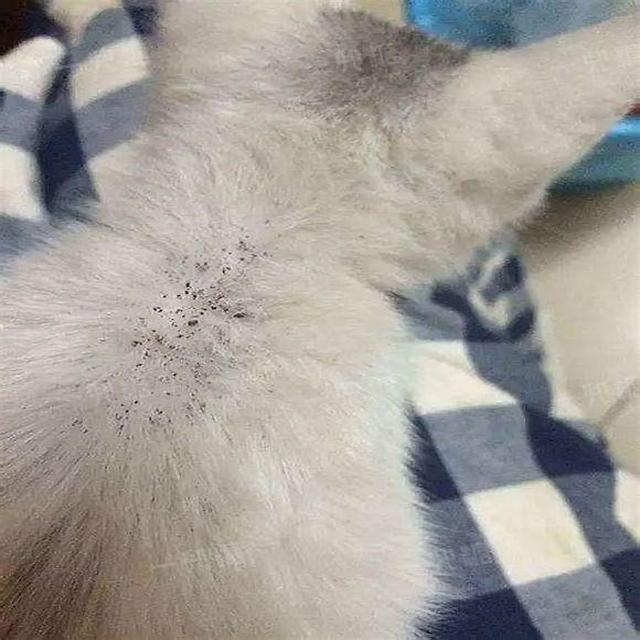acne: (105, 228, 280, 445)
